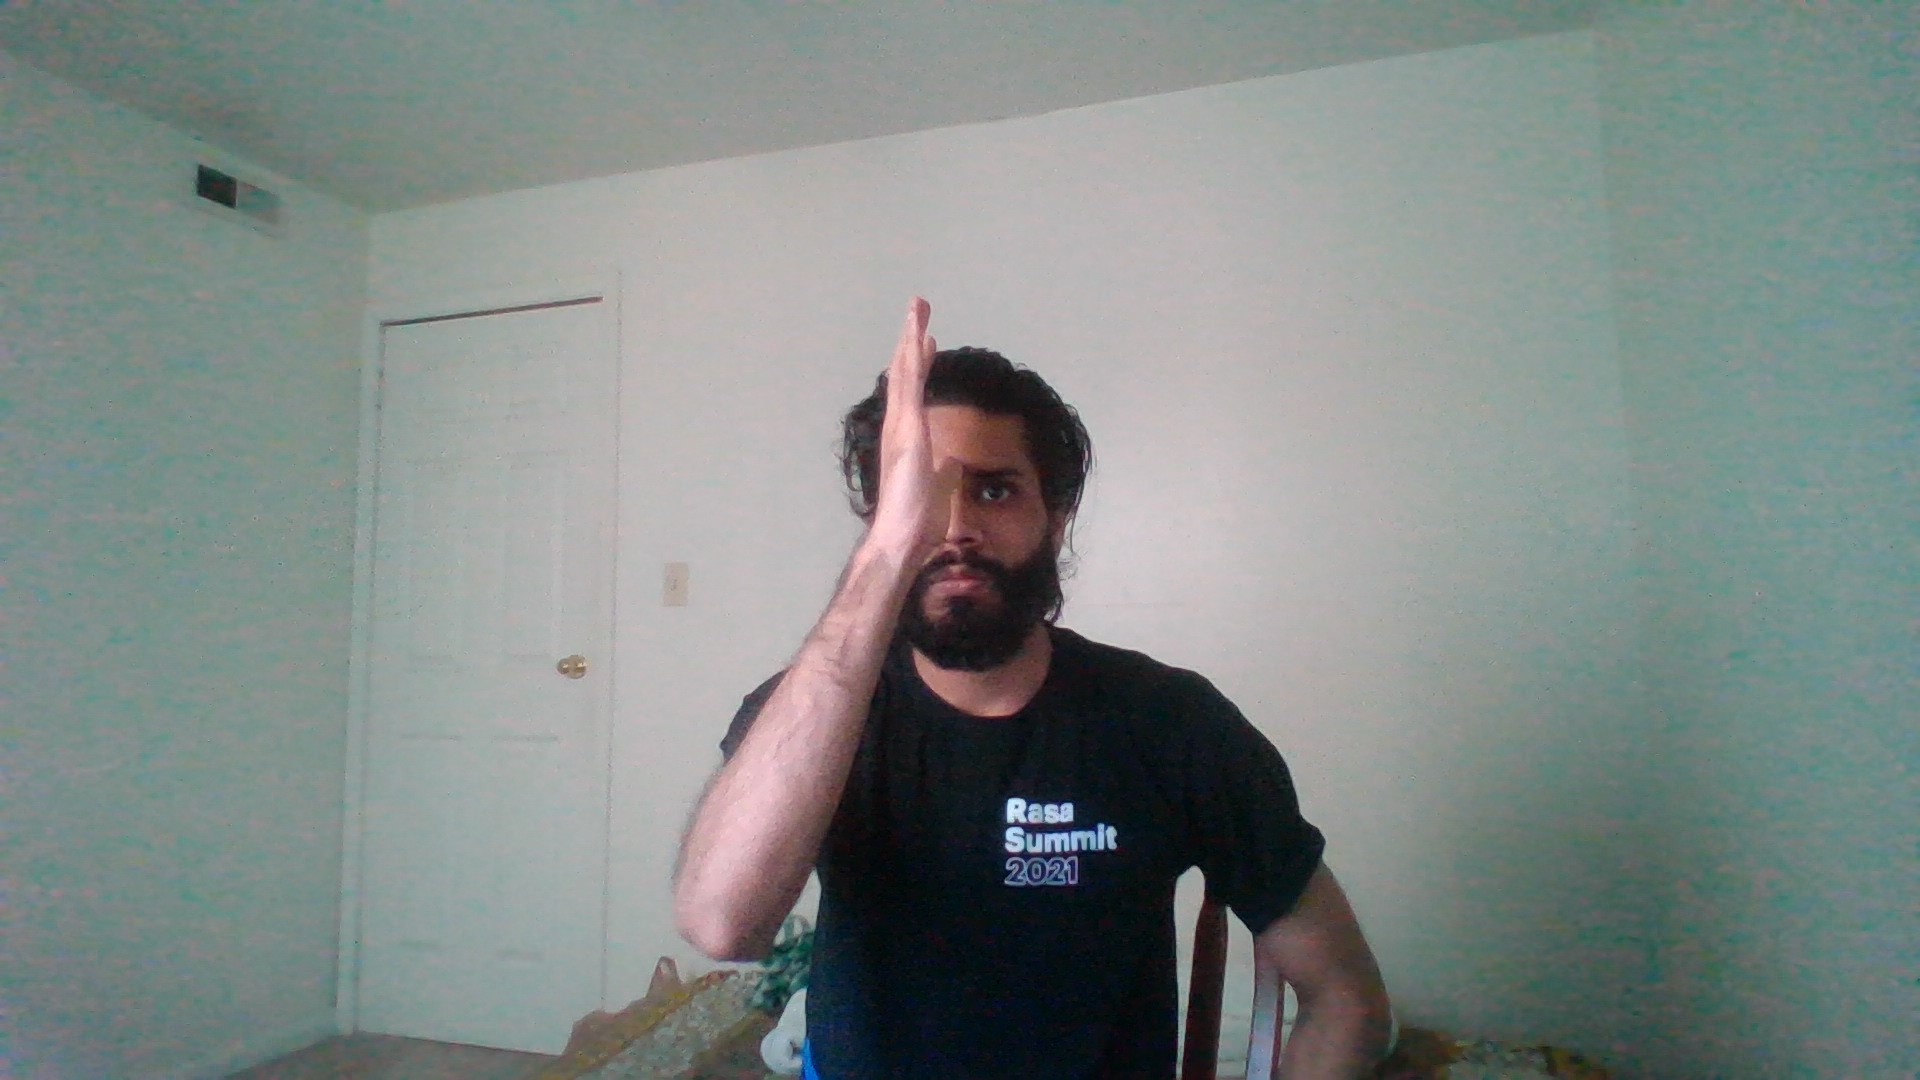Dad: (746, 281, 1065, 617)
